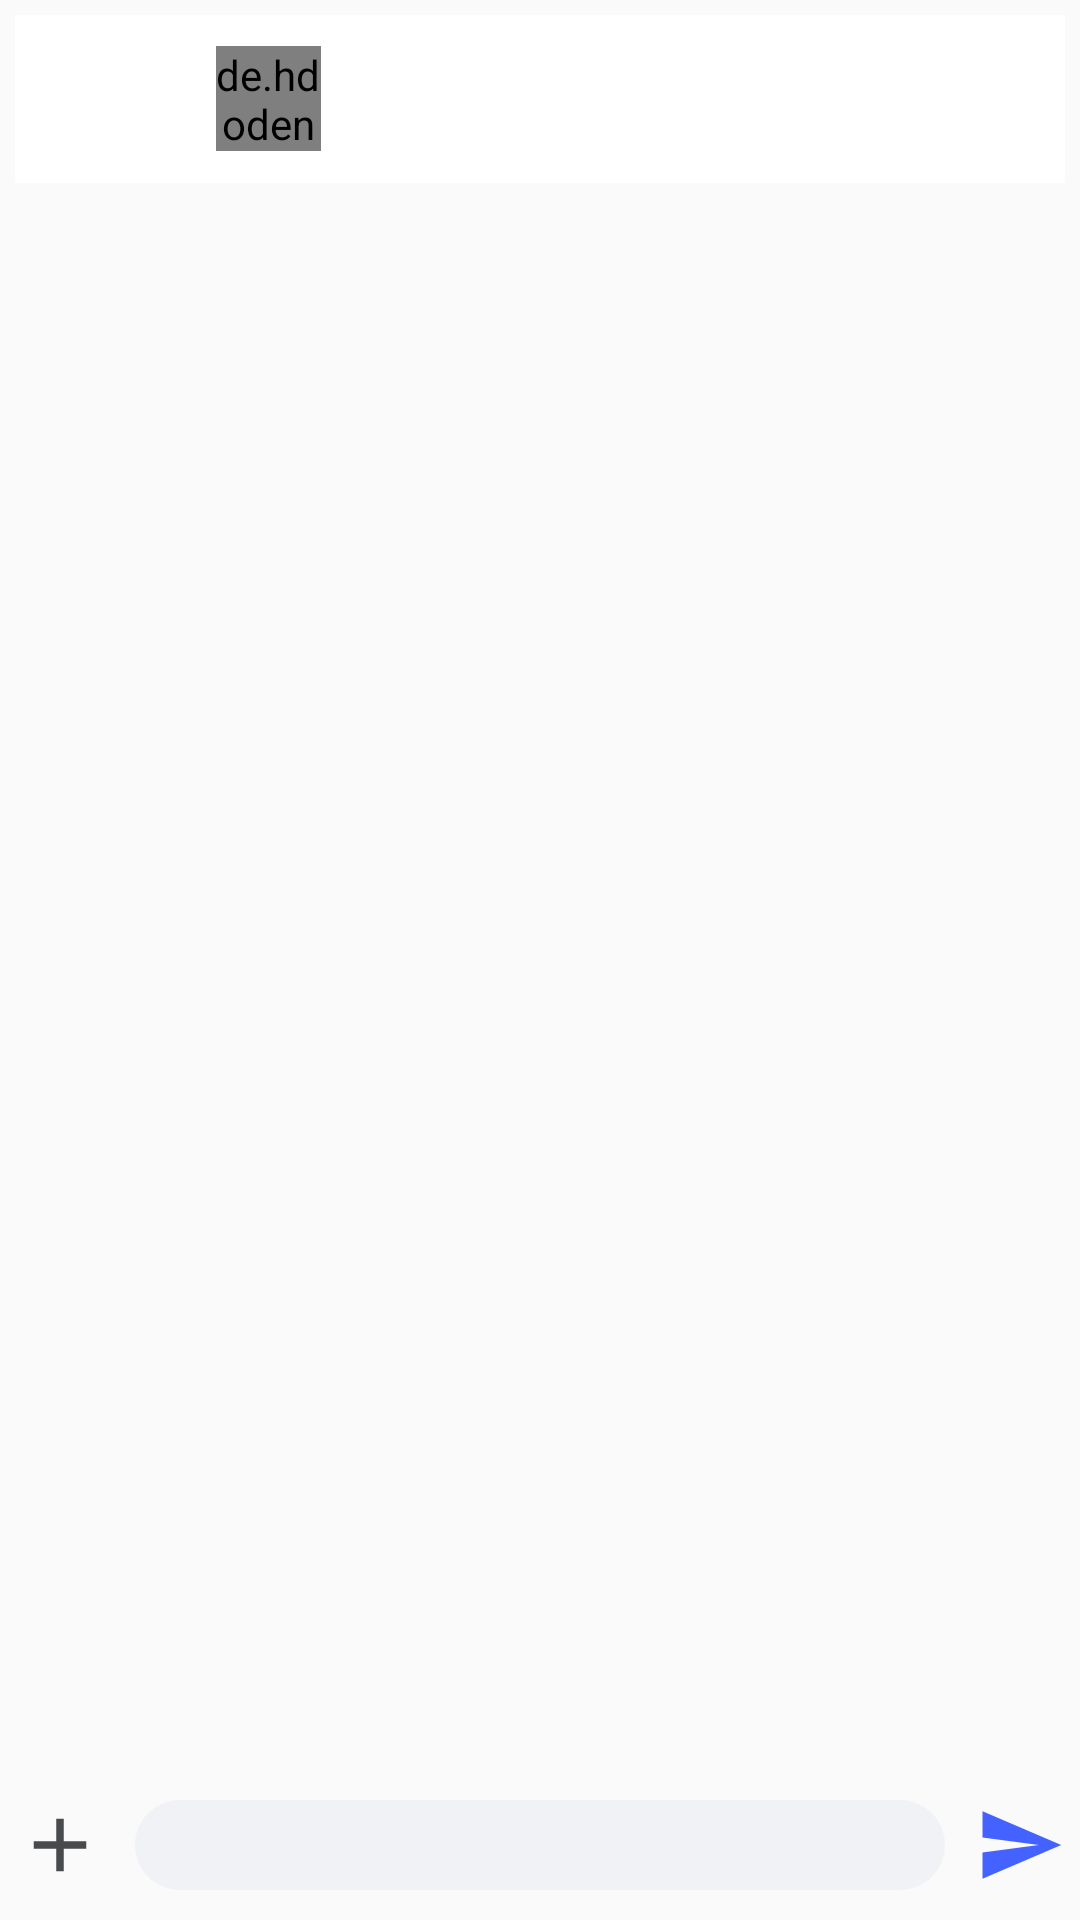

Named icons in this screenshot (1080w x 1920h) and their centers, point (x, y):
add attack: point (60, 1845)
send: point (1021, 1845)
